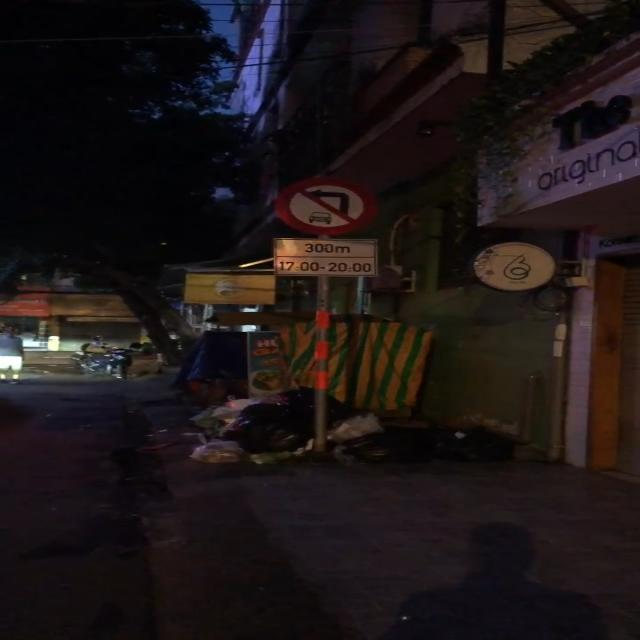Bien bao cam xe o to re trai: (260, 175, 379, 237)
